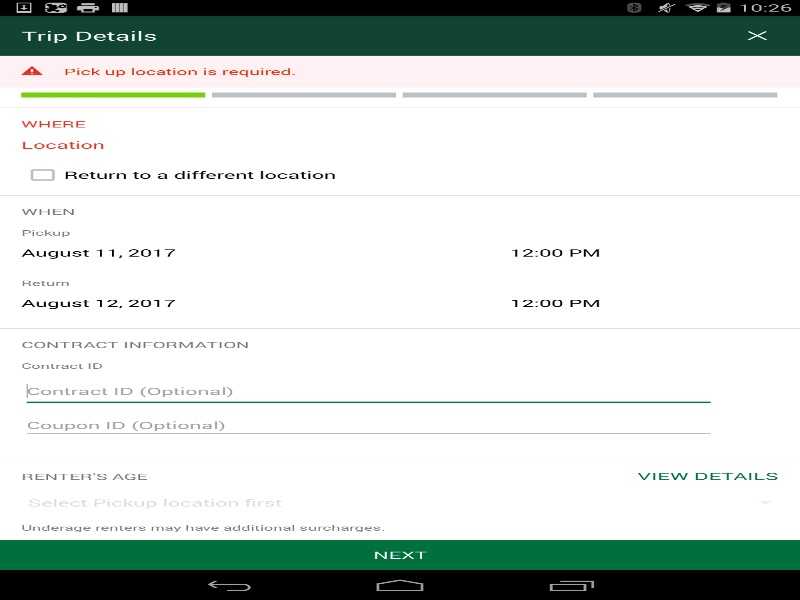Button: (0, 540, 800, 570), (21, 130, 778, 160), (21, 237, 475, 267), (21, 288, 475, 318), (496, 237, 800, 267), (496, 288, 800, 318), (636, 469, 778, 482)
Input: (21, 375, 716, 407), (21, 412, 716, 438)
